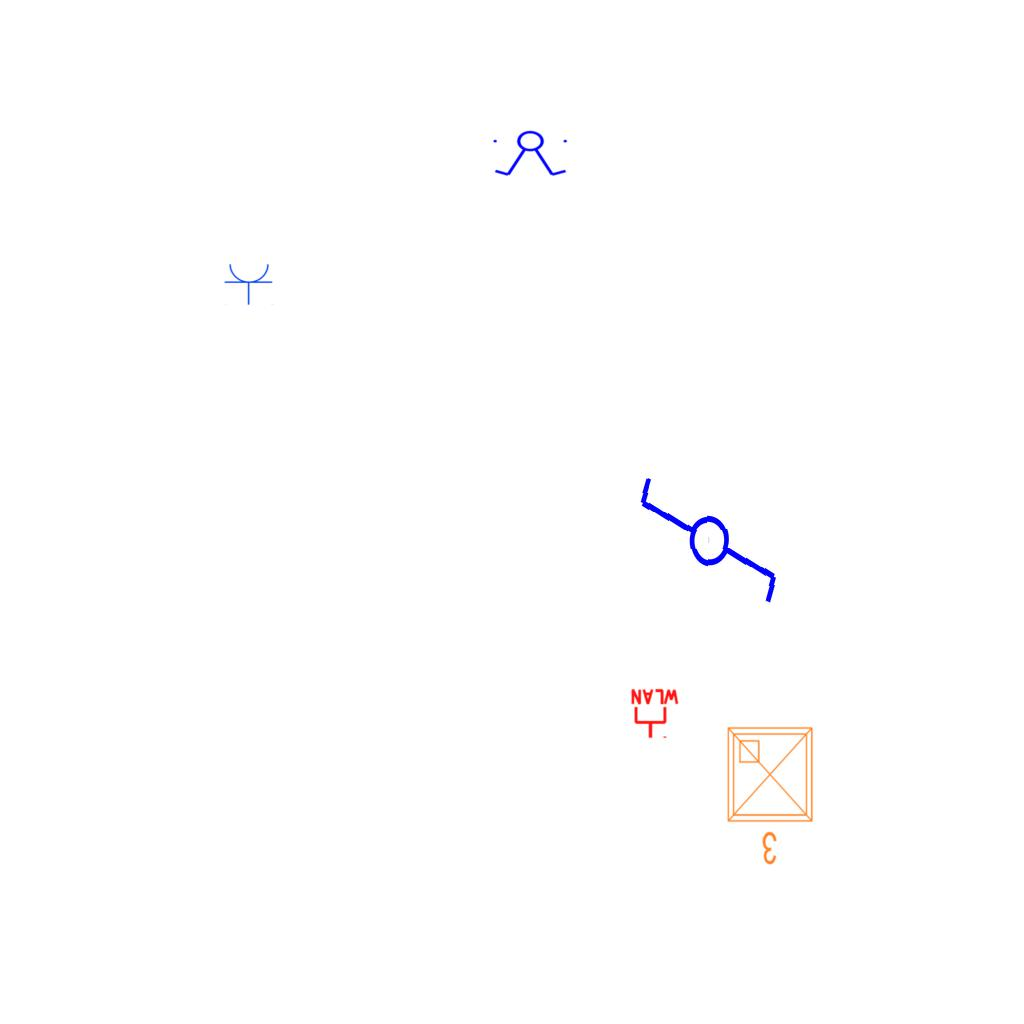Einbaudownlights_LED_Konferenzraeume: (720, 720, 824, 870)
Schukosteckdose_einfach: (224, 262, 274, 305)
Serienschalter: (489, 130, 573, 178)
WLAN: (629, 688, 681, 740)
Wechselschalter: (631, 466, 784, 632)
